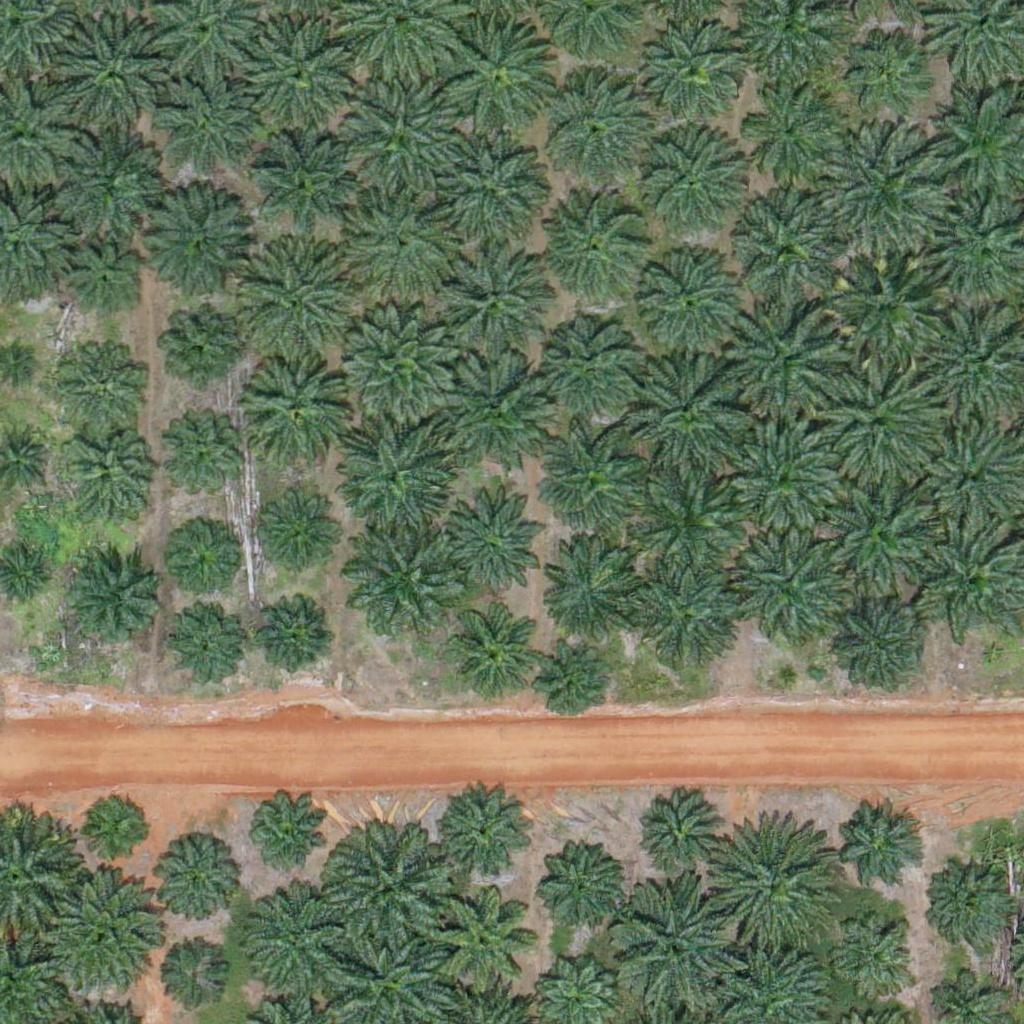Kelapa_Sawit: (710, 827, 835, 953), (617, 885, 742, 1011), (324, 826, 449, 952), (822, 363, 947, 489), (821, 239, 946, 365), (821, 125, 946, 251), (724, 198, 849, 324), (54, 876, 167, 990), (243, 881, 356, 994), (907, 416, 1020, 529), (631, 565, 744, 678), (633, 462, 746, 575), (637, 350, 750, 463), (536, 71, 649, 184), (535, 416, 648, 529), (445, 21, 558, 134), (435, 126, 548, 239), (432, 244, 545, 357), (345, 518, 458, 631), (235, 350, 348, 463), (138, 190, 251, 303), (56, 18, 169, 131), (42, 119, 155, 232), (824, 487, 936, 600), (731, 303, 843, 416), (730, 418, 842, 531), (733, 533, 845, 646), (638, 234, 750, 347), (634, 121, 746, 234), (441, 348, 553, 461), (437, 494, 549, 607), (344, 75, 456, 188), (342, 184, 454, 297), (340, 303, 452, 416), (336, 418, 448, 531), (238, 240, 350, 353), (242, 13, 354, 126), (437, 895, 537, 996), (435, 784, 535, 885), (838, 588, 938, 689), (549, 190, 649, 291), (540, 314, 640, 415), (541, 536, 641, 637), (252, 137, 352, 238), (61, 549, 161, 650), (740, 79, 840, 179), (643, 20, 743, 120), (151, 838, 239, 927), (445, 606, 533, 694), (56, 340, 144, 428), (64, 434, 152, 522), (243, 792, 330, 880), (250, 487, 337, 575), (161, 84, 248, 172), (164, 310, 239, 386), (153, 943, 228, 1019), (835, 814, 910, 890), (834, 922, 909, 998), (642, 801, 717, 877), (543, 849, 618, 925), (847, 29, 922, 105), (258, 603, 333, 679), (166, 425, 241, 501), (169, 607, 244, 683), (62, 243, 137, 319), (930, 868, 1005, 943), (166, 530, 229, 593), (87, 795, 150, 858), (540, 647, 603, 710), (1, 344, 39, 382)
